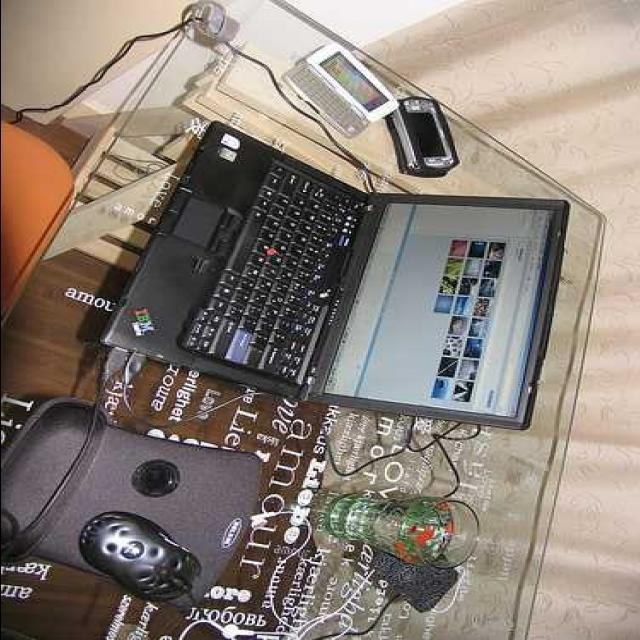laptop: (177, 195, 527, 391)
